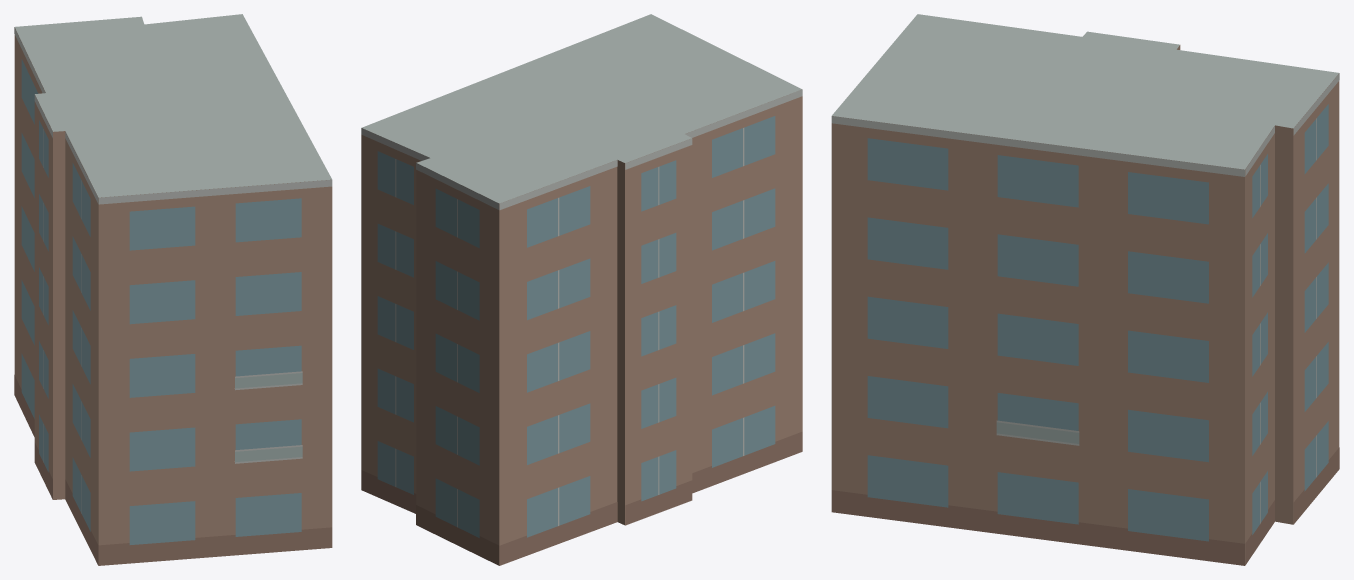
The model's file is survey-upis-32901938.glb.
3 renders of one model, left to right at view 1: azimuth 30°, elevation 25°; view 2: azimuth 150°, elevation 25°; view 3: azimuth 270°, elevation 25°, orthographic. The views are drawn at different scales.
Visible parts, largest first — view 1: survey-upis-32901938.tmp; view 2: survey-upis-32901938.tmp; view 3: survey-upis-32901938.tmp.
Part boxes in pixels (x1,y1,x2,y2): survey-upis-32901938.tmp: (14, 14, 332, 565); survey-upis-32901938.tmp: (361, 14, 802, 565); survey-upis-32901938.tmp: (831, 14, 1339, 565).
Size of the model in its own units: 10.95 by 13 by 15.11.
